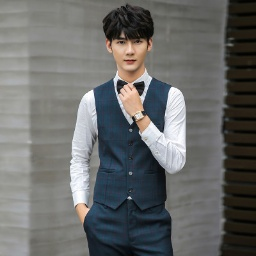face: (101, 3, 157, 74)
